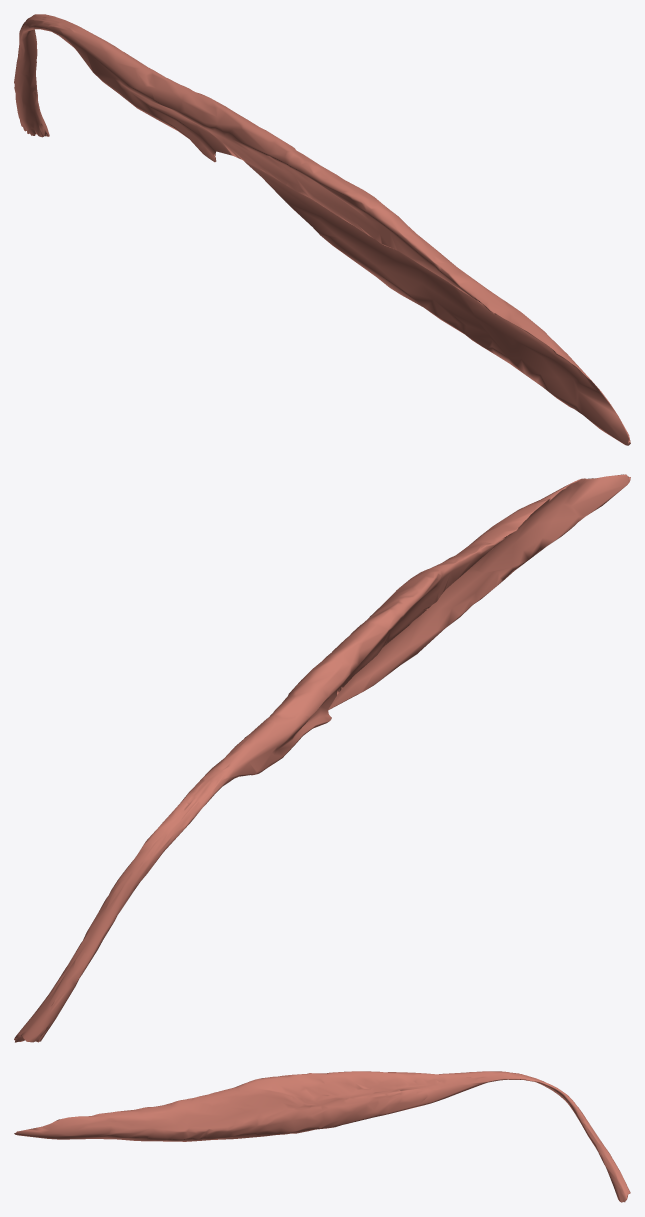
3 views of the same model, one above another, from view 1: azimuth 30°, elevation 25°; view 2: azimuth 150°, elevation 25°; view 3: azimuth 270°, elevation 25° (orthographic). The views are drawn at different scales.
Visible parts, largest first — view 1: 左侧腓骨短肌; view 2: 左侧腓骨短肌; view 3: 左侧腓骨短肌.
Part boxes in pixels (bbox=[...]): 左侧腓骨短肌: bbox=[14, 14, 630, 445]; 左侧腓骨短肌: bbox=[14, 474, 630, 1042]; 左侧腓骨短肌: bbox=[14, 1071, 630, 1202].
Size of the model in its own units: 0.0418 by 0.0807 by 0.3962.
